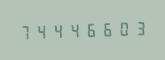four: (33, 21, 48, 41), (65, 20, 80, 40), (49, 21, 64, 40)
seven: (17, 22, 32, 41)
six: (81, 20, 96, 39), (97, 19, 112, 38)
three: (129, 18, 144, 37)
zero: (113, 18, 128, 38)
